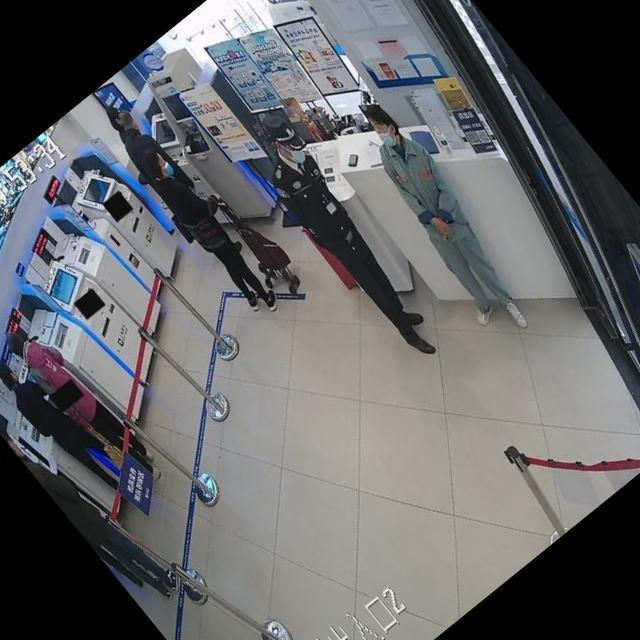person: (330, 95, 553, 348), (237, 111, 458, 366), (0, 404, 184, 616), (132, 134, 298, 324), (2, 311, 166, 500), (0, 342, 134, 509), (100, 101, 194, 206), (102, 102, 194, 205), (96, 103, 162, 177), (98, 102, 140, 148)
